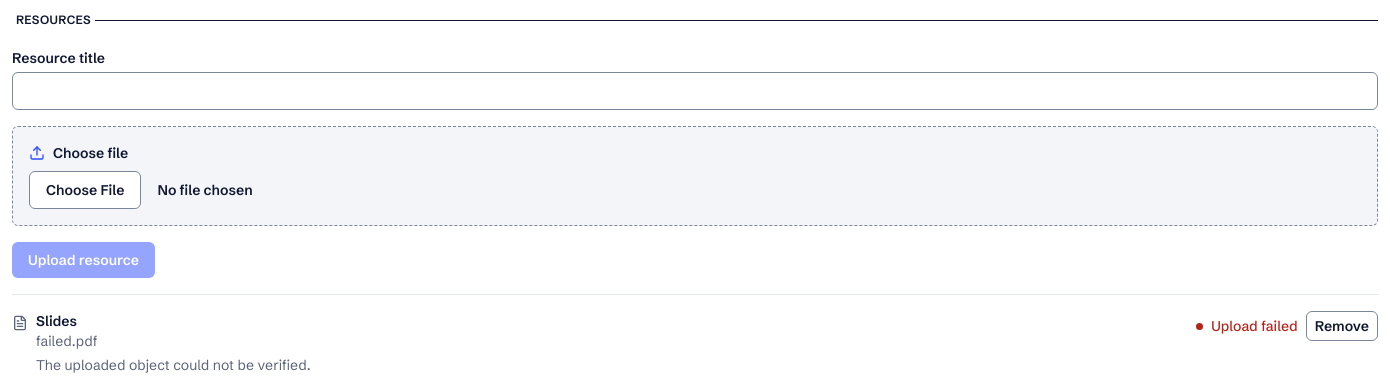
Test: UploadPanel › shows Upload failed and removes the row after confirmation
This screenshot has width=1390, height=390.
Check: the text "Upload failed" is shown, box [1196,316,1298,336]
Click the button "Remove": (1342, 326) [1306,311,1378,341]
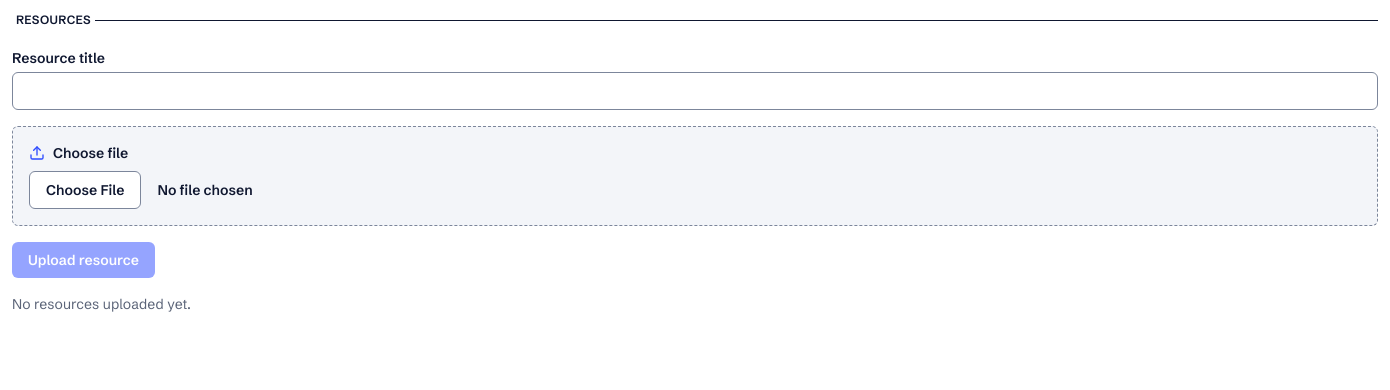
Check: the text "failed.pdf" is gone
